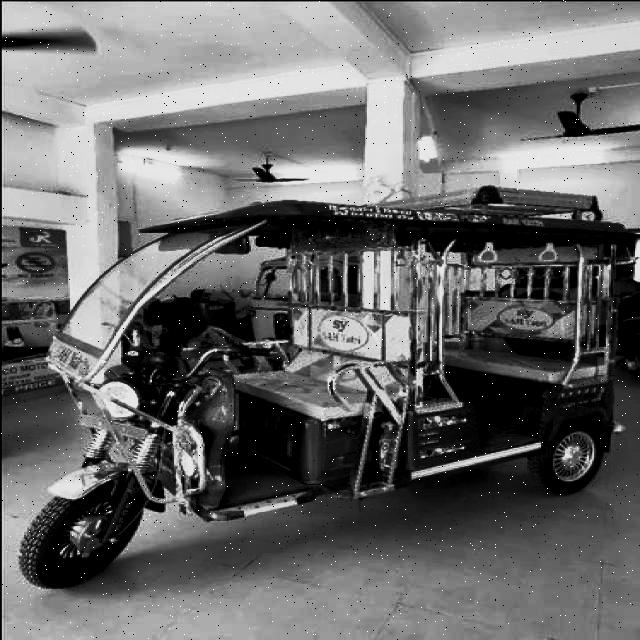Toto: (24, 198, 629, 584)
